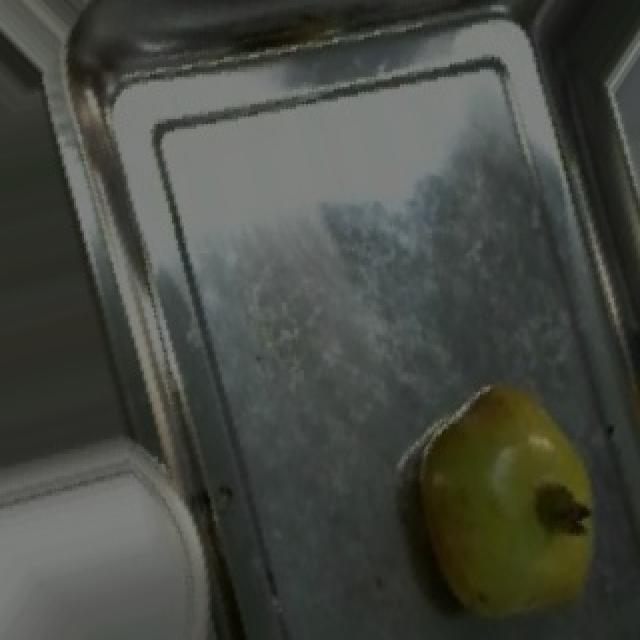fruit: (382, 352, 636, 628)
